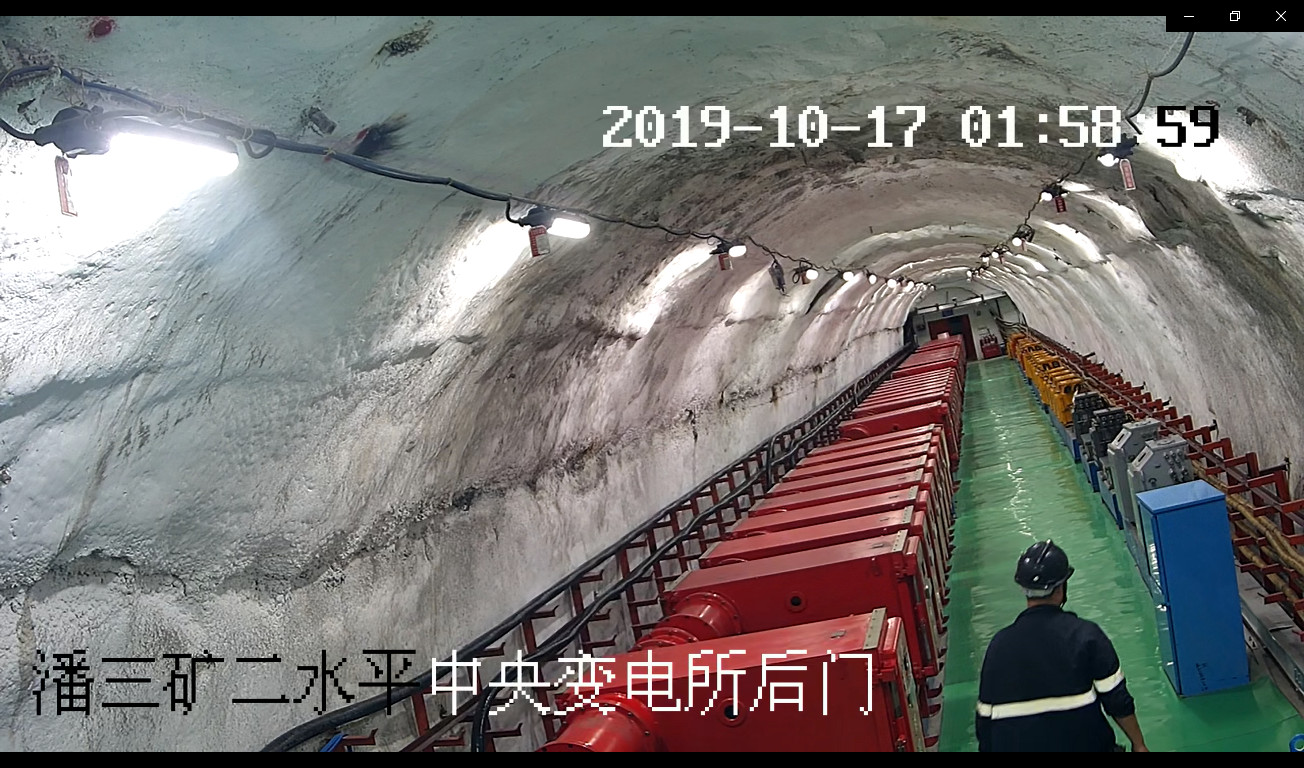helmet: (1015, 538, 1075, 590)
